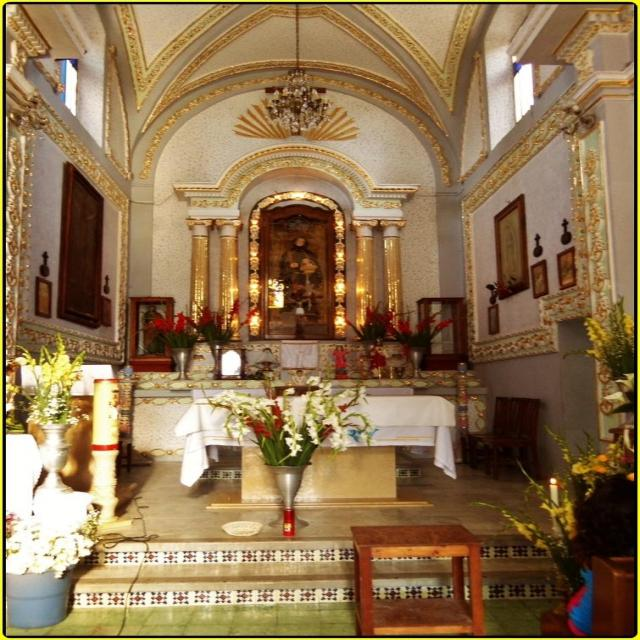Table: (341, 512, 502, 633)
